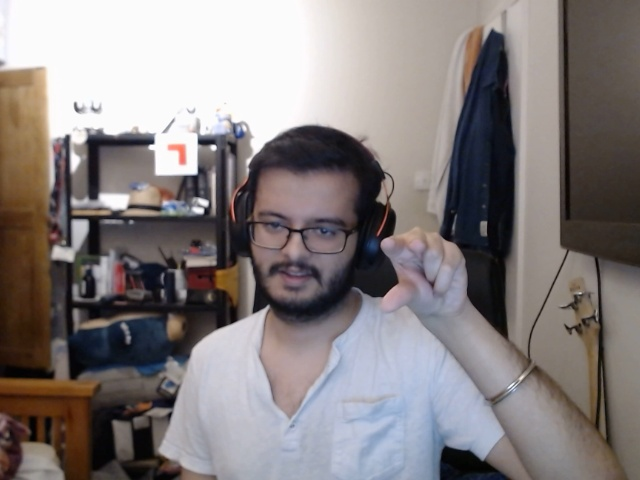No: (361, 224, 483, 321)
